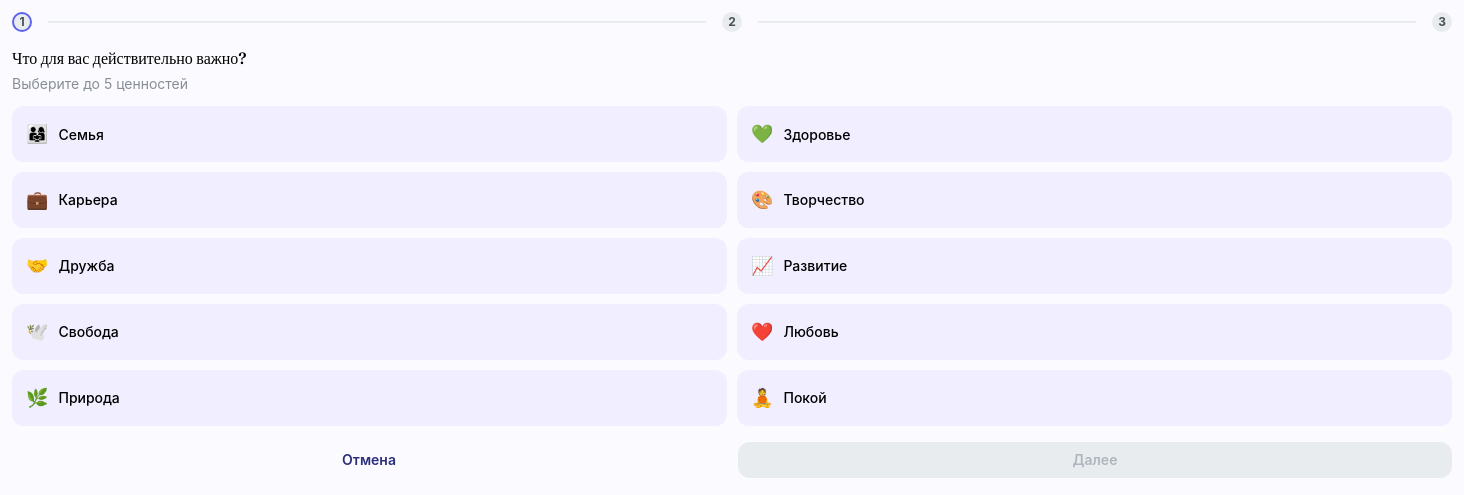
Test: ValuesDiaryForm › enables "Далее" button after selecting a value
The image size is (1464, 495).
What coordinates should you click on to do the following:
click the text "Семья"
I would click on:
 (81, 134)
Its box is [58,124,104,145].
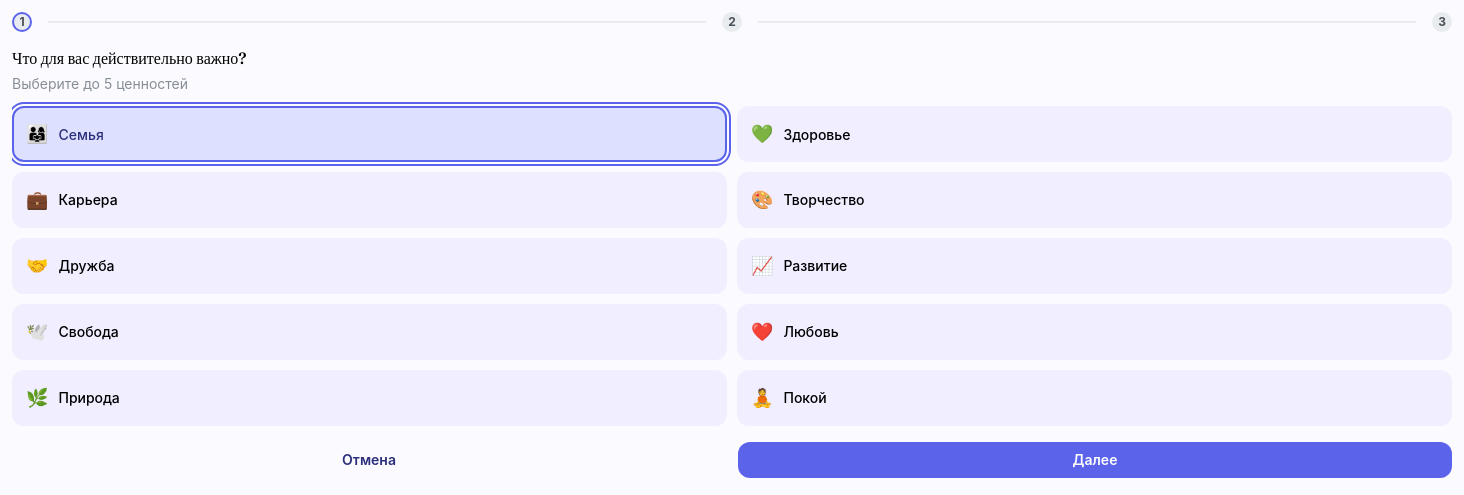
Check: the button "Далее" is enabled, box [738,442,1452,478]
